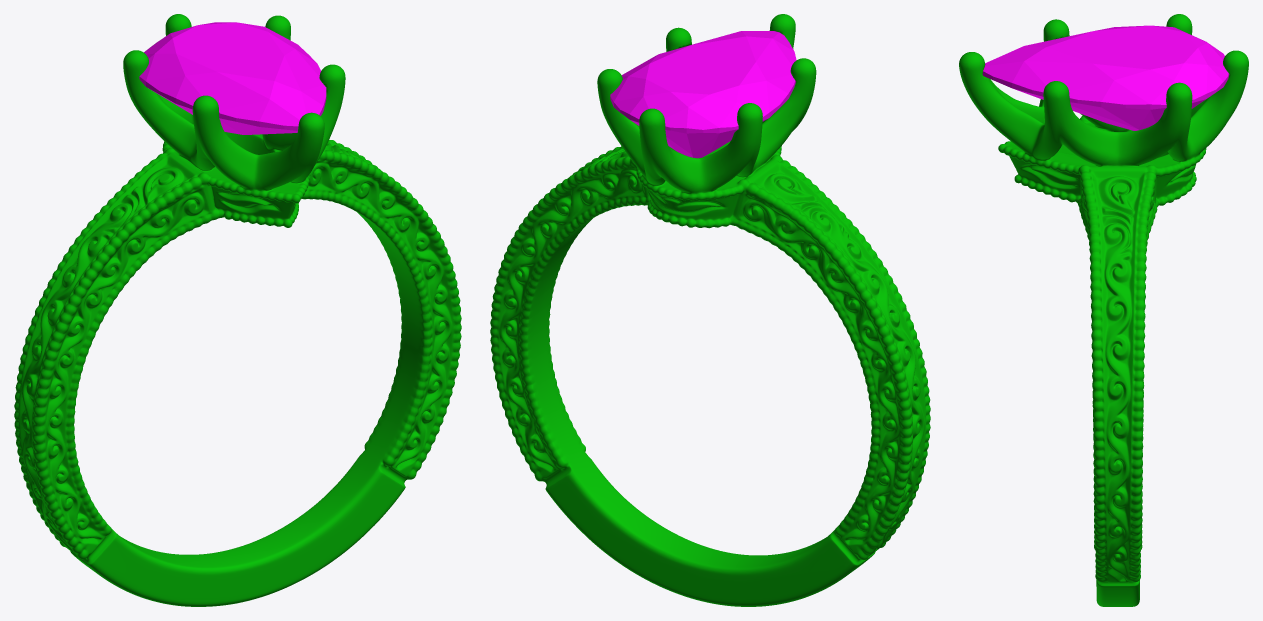
The model's file is BE132_PE_200ct_RENDER.glb.
3 views of the same model, side by side, from view 1: azimuth 30°, elevation 25°; view 2: azimuth 150°, elevation 25°; view 3: azimuth 270°, elevation 25° (orthographic).
Visible parts, largest first — view 1: Metal 01, CS_Diamond_Pear; view 2: Metal 01, CS_Diamond_Pear; view 3: Metal 01, CS_Diamond_Pear.
Boxes of the visible parts, x1,y1,x2,y2 form: Metal 01: (14, 14, 461, 606); CS_Diamond_Pear: (139, 22, 326, 134); Metal 01: (490, 14, 930, 606); CS_Diamond_Pear: (610, 31, 796, 158); Metal 01: (959, 14, 1248, 606); CS_Diamond_Pear: (982, 25, 1229, 130).
Bounding box in the file's own units: 20.27 × 24.53 × 12.01.
